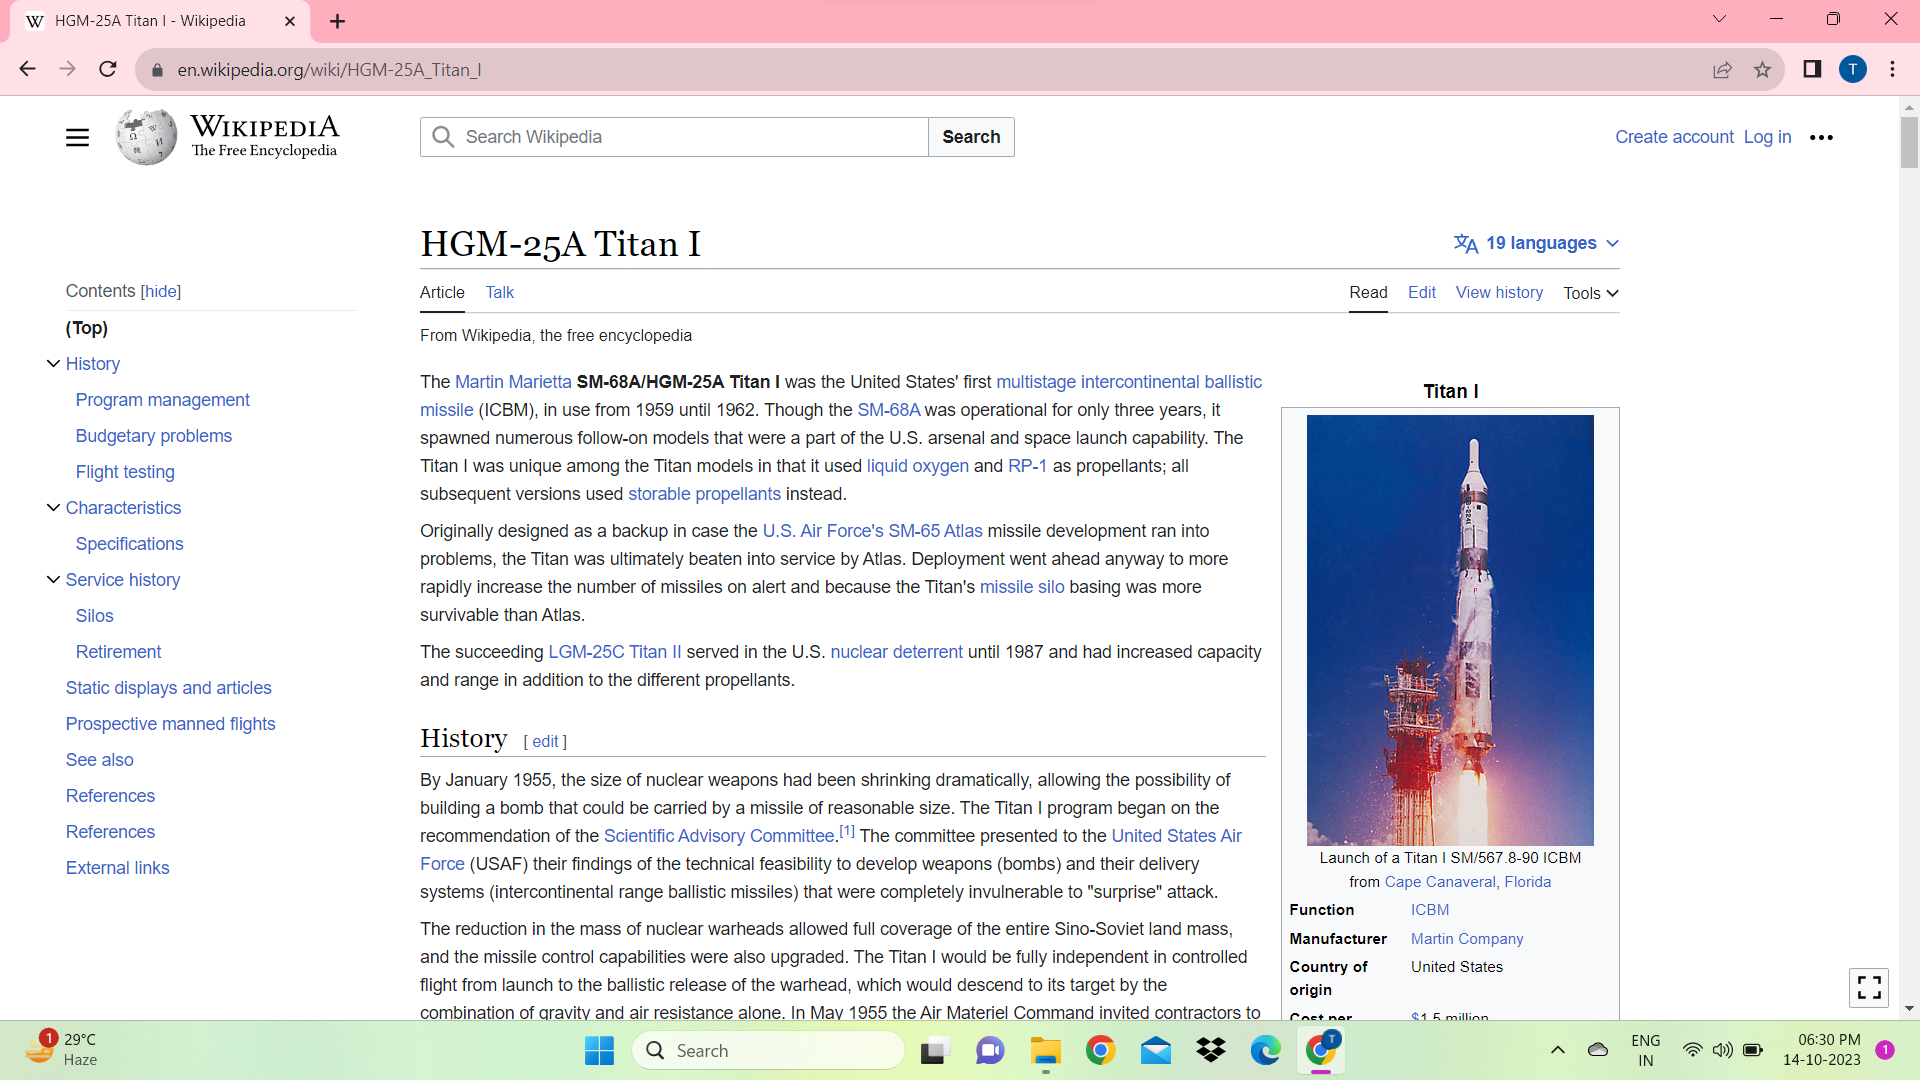Image: (1299, 406, 1611, 841)
Paragraph: (421, 363, 1271, 509), (411, 766, 1249, 903), (404, 913, 1271, 1025), (411, 518, 1229, 630), (411, 644, 1275, 692), (406, 214, 737, 269), (410, 323, 723, 349), (61, 709, 287, 744), (74, 384, 261, 417), (69, 418, 241, 451), (58, 675, 274, 699), (50, 281, 218, 311), (411, 709, 513, 756), (58, 852, 183, 889), (71, 525, 207, 556), (58, 458, 194, 488), (65, 492, 194, 520), (58, 785, 179, 808), (57, 822, 170, 844), (65, 567, 173, 589), (61, 637, 175, 658), (1456, 281, 1540, 309), (1333, 274, 1395, 306), (58, 349, 136, 371), (58, 315, 123, 339), (1402, 274, 1449, 306), (411, 278, 472, 302), (62, 753, 162, 766), (1560, 276, 1604, 306), (479, 281, 539, 302), (69, 607, 133, 625)
